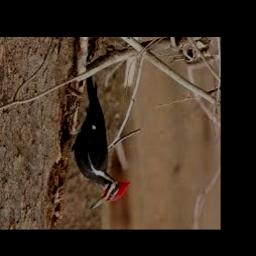Woodpecker: (73, 75, 131, 210)
